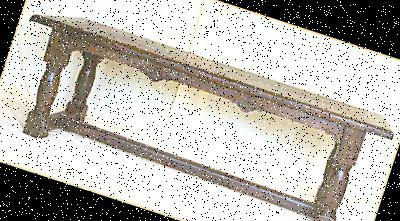Mesa: (0, 5, 396, 220)
